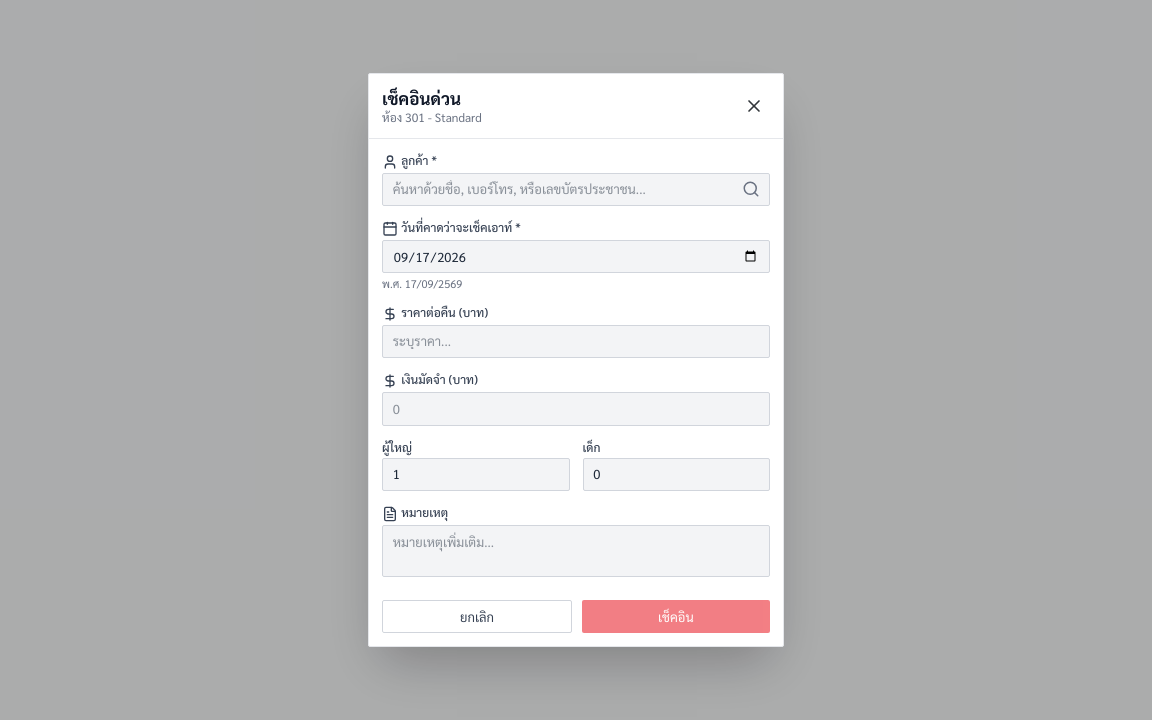
Test: QuickCheckInModal Component › Customer Search (Debounced) › displays customer search results dropdown
The width and height of the screenshot is (1152, 720).
In the field with placeholder "ค้นหาด้วยชื่อ, เบอร์โทร, หรือเลขบัตรประชาชน...": point(576, 189) [382,173,770,206], type "John"
Wait 300 ms
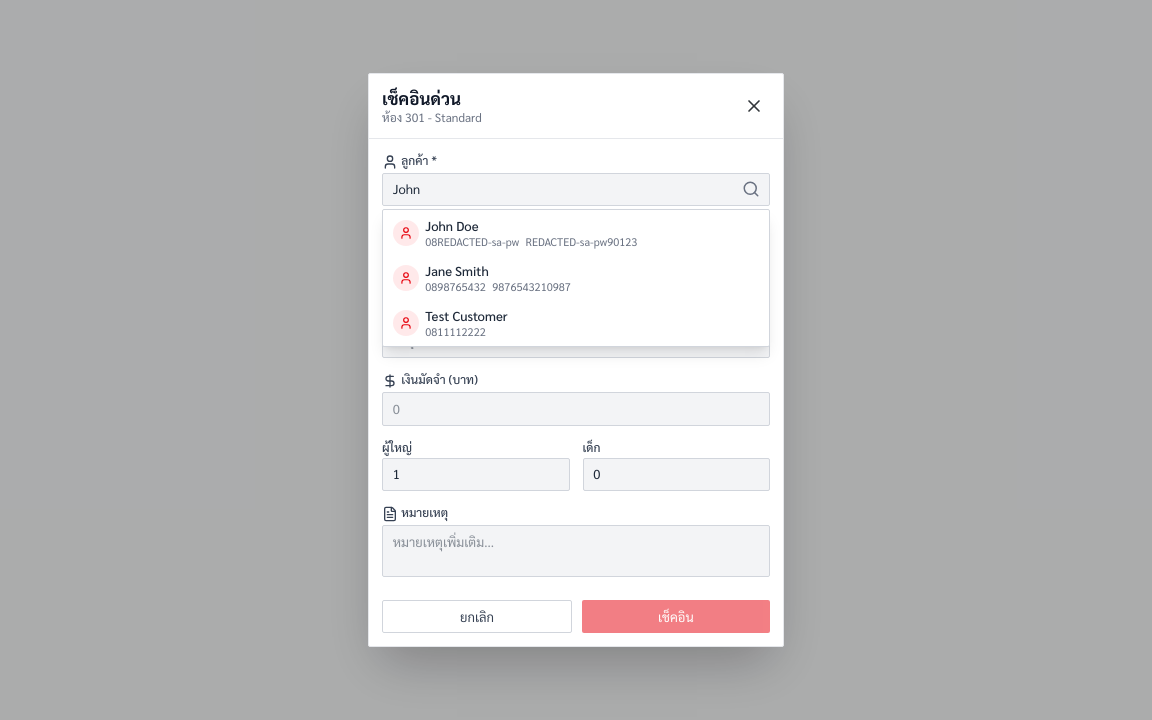
Check: the text "John Doe" is shown, box [425,217,479,234]
Check: the text "08REDACTED-sa-pw" is shown, box [425,234,519,249]
